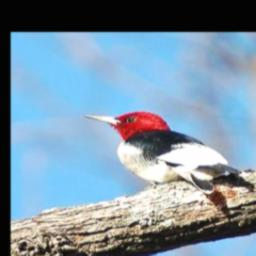Woodpecker: (80, 110, 243, 196)
